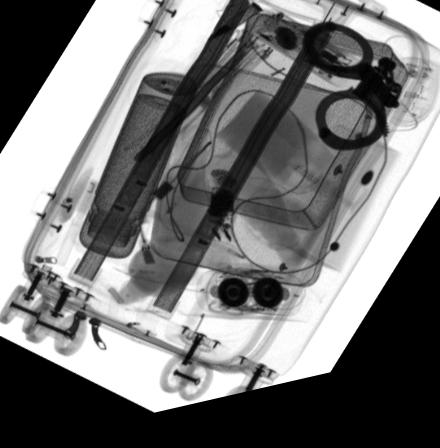Bullet: (205, 11, 263, 48)
HandCuffs: (300, 35, 402, 165)
